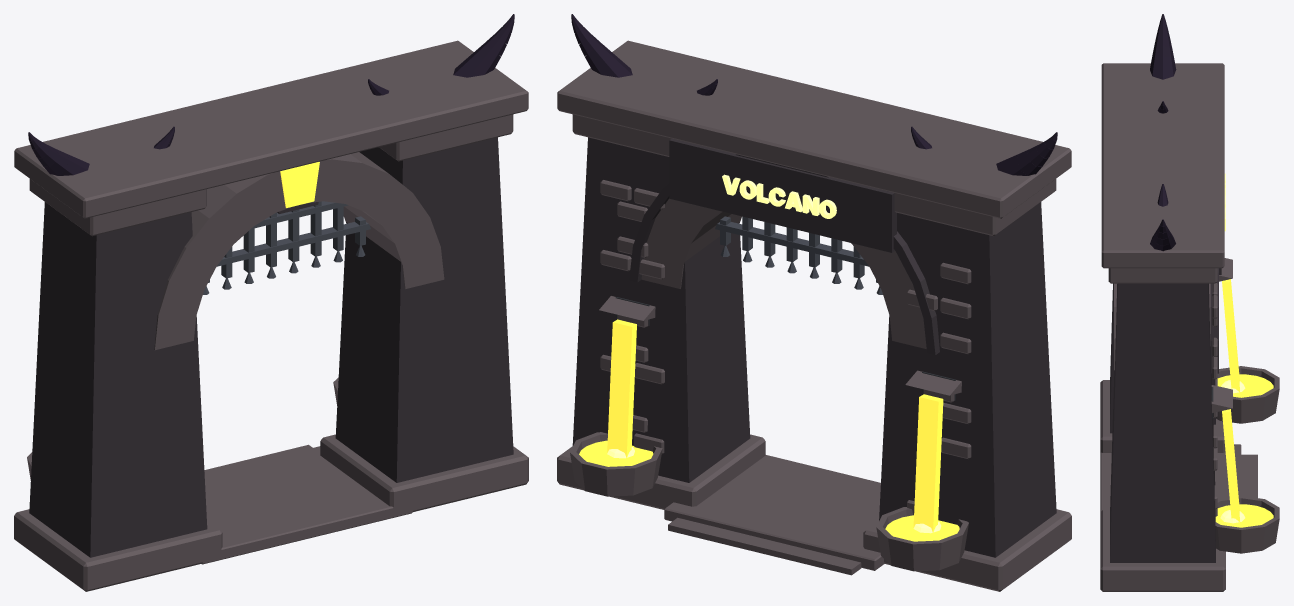
The model's file is MagmaGate.fbx.
The picture shows the model from 3 angles, left to right: view 1: azimuth 30°, elevation 25°; view 2: azimuth 150°, elevation 25°; view 3: azimuth 270°, elevation 25°; orthographic projection. The views are drawn at different scales.
Parts seen in each view (by area): view 1: MagmaGate_Basalt, MagmaGate_BasaltLight, MagmaGate_DarkMetal, MagmaGate_Obsidian, MagmaGate_Lava; view 2: MagmaGate_BasaltLight, MagmaGate_Basalt, MagmaGate_Lava, MagmaGate_DarkMetal, MagmaGate_Obsidian, MagmaGate_Fire; view 3: MagmaGate_BasaltLight, MagmaGate_Basalt, MagmaGate_Lava, MagmaGate_Obsidian, MagmaGate_Fire.
Part boxes in pixels (left/top/right/bottom): MagmaGate_Basalt: left=29, top=137, right=513, bottom=557; MagmaGate_BasaltLight: left=14, top=40, right=528, bottom=591; MagmaGate_DarkMetal: left=203, top=201, right=370, bottom=294; MagmaGate_Obsidian: left=28, top=14, right=514, bottom=175; MagmaGate_Lava: left=280, top=162, right=319, bottom=207; MagmaGate_BasaltLight: left=557, top=40, right=1071, bottom=591; MagmaGate_Basalt: left=572, top=137, right=1056, bottom=557; MagmaGate_Lava: left=579, top=319, right=959, bottom=541; MagmaGate_DarkMetal: left=715, top=216, right=882, bottom=294; MagmaGate_Obsidian: left=571, top=14, right=1057, bottom=175; MagmaGate_Fire: left=607, top=174, right=941, bottom=533; MagmaGate_BasaltLight: left=1100, top=63, right=1279, bottom=591; MagmaGate_Basalt: left=1110, top=268, right=1221, bottom=562; MagmaGate_Lava: left=1215, top=279, right=1273, bottom=527; MagmaGate_Obsidian: left=1150, top=14, right=1176, bottom=251; MagmaGate_Fire: left=1220, top=173, right=1245, bottom=523.
Size of the model in its own units: 34.92 by 30.18 by 12.86.
